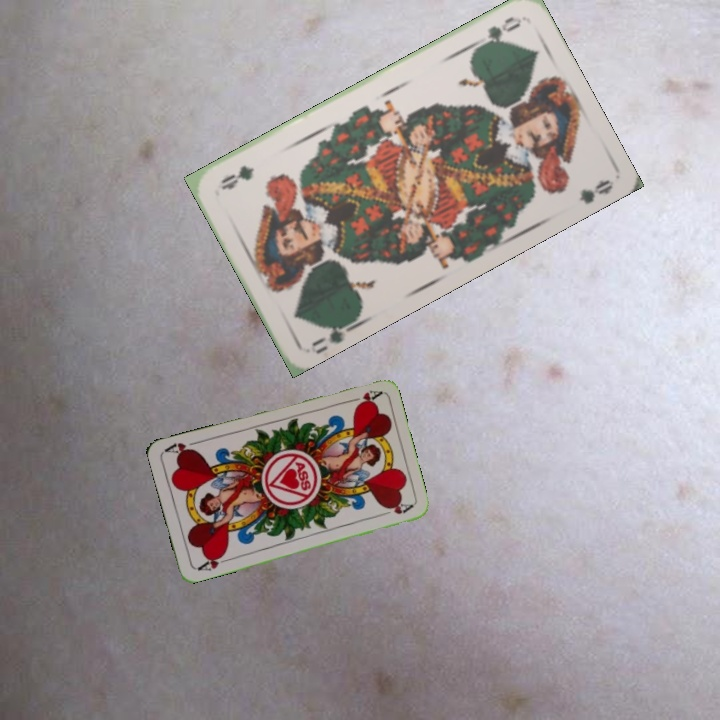GO: (469, 12, 524, 51), (307, 317, 360, 349)
HA: (343, 386, 383, 410), (193, 550, 233, 573)
